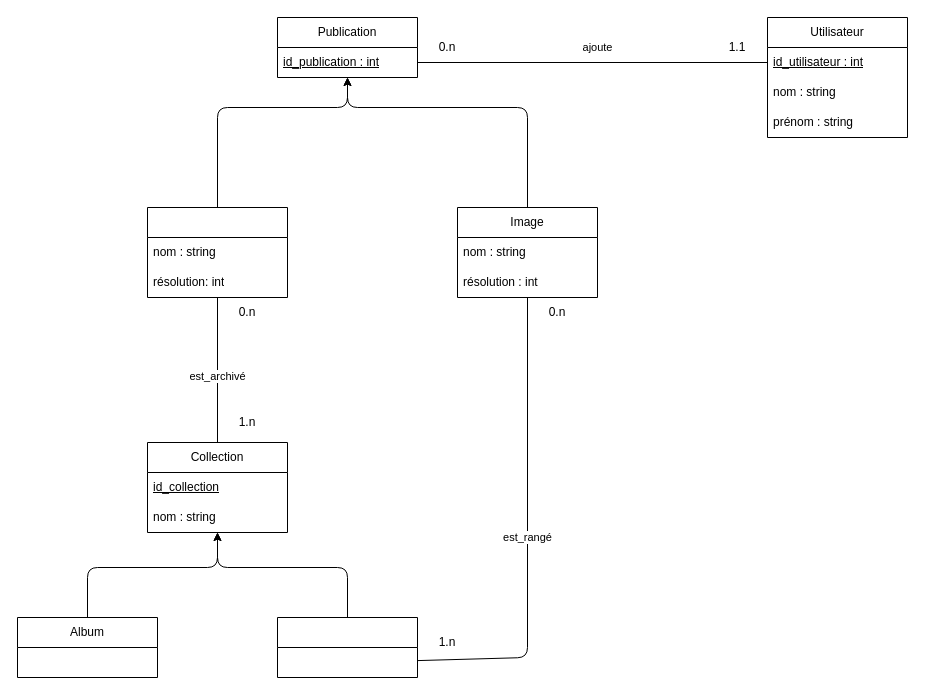
This 925x695 diagram has some shape labels left out. The shapes that lost their labels are listed below. From the top down, each one's box as (x1, y1, x2, y2) in pixels, then its label:
(146, 206, 288, 298): Photo
(276, 616, 418, 678): Galerie
